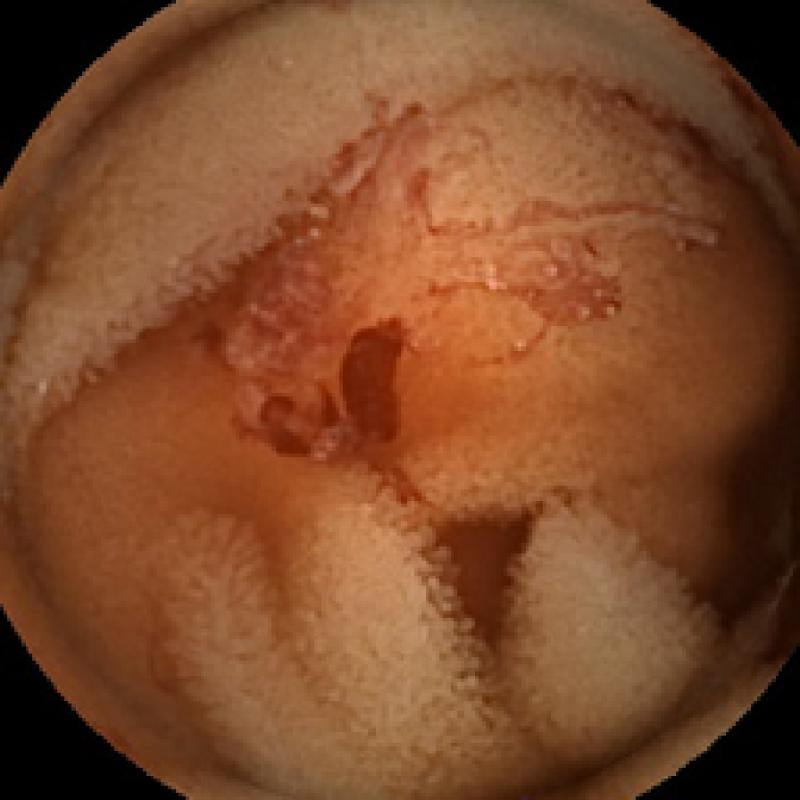bleeding: (239, 322, 411, 465)
